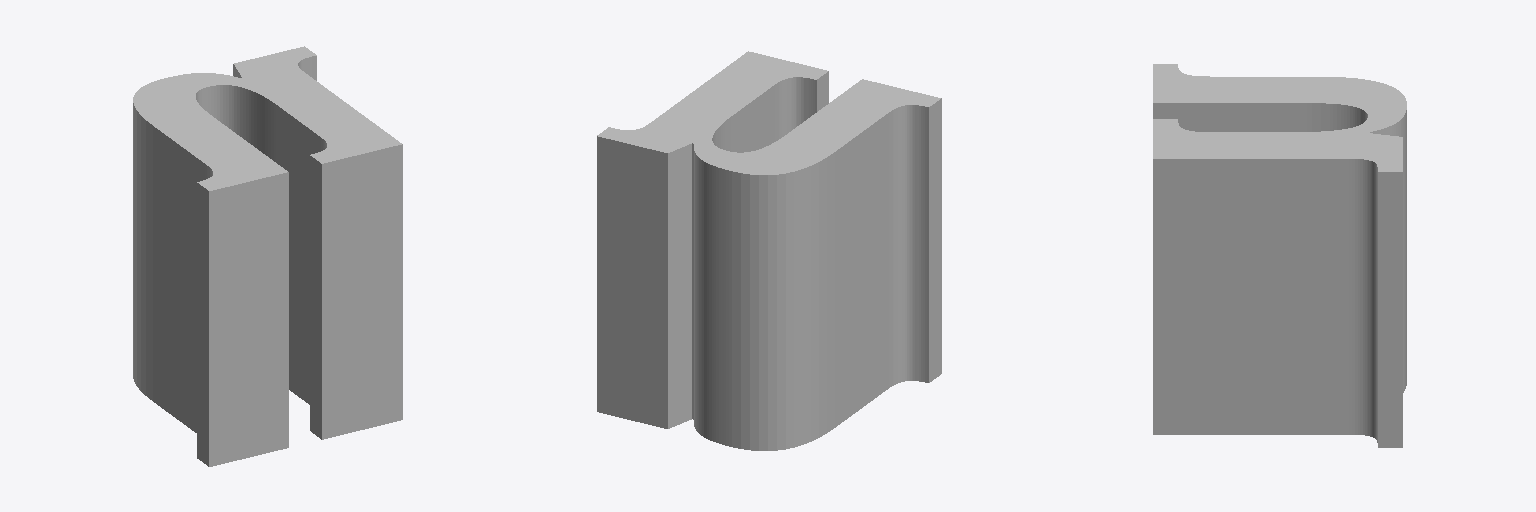
The picture shows the model from 3 angles: view 1: azimuth 30°, elevation 25°; view 2: azimuth 150°, elevation 25°; view 3: azimuth 270°, elevation 25°; orthographic projection.
Visible parts, largest first — view 1: obj_0; view 2: obj_0; view 3: obj_0.
Boxes of the visible parts, x1=… form: obj_0: x1=133, y1=46, x2=402, y2=466; obj_0: x1=597, y1=51, x2=941, y2=450; obj_0: x1=1153, y1=64, x2=1406, y2=447.
Bounding box in the file's own units: 5 × 5.99 × 5.